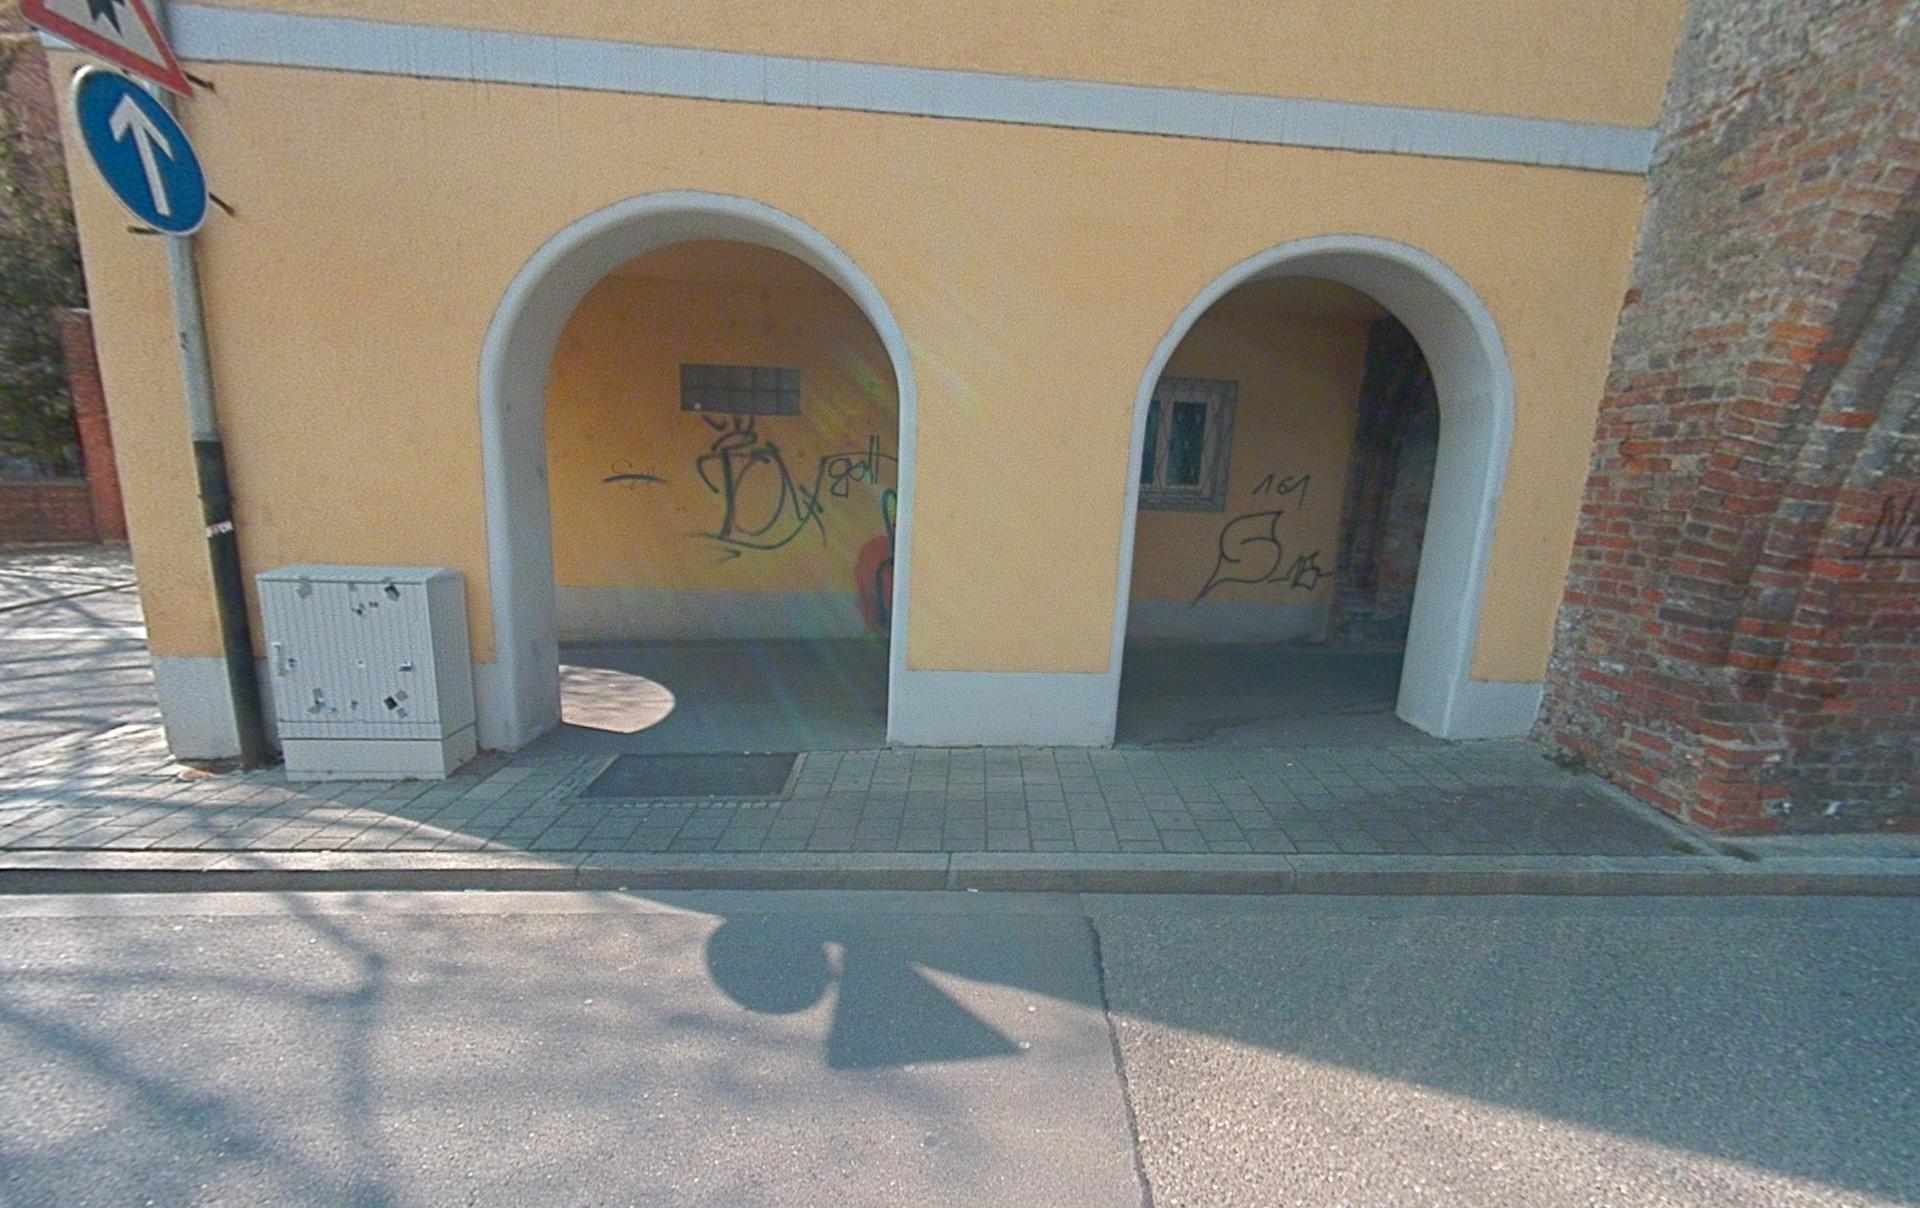traffic sign: (70, 61, 210, 237), (18, 0, 196, 100)
